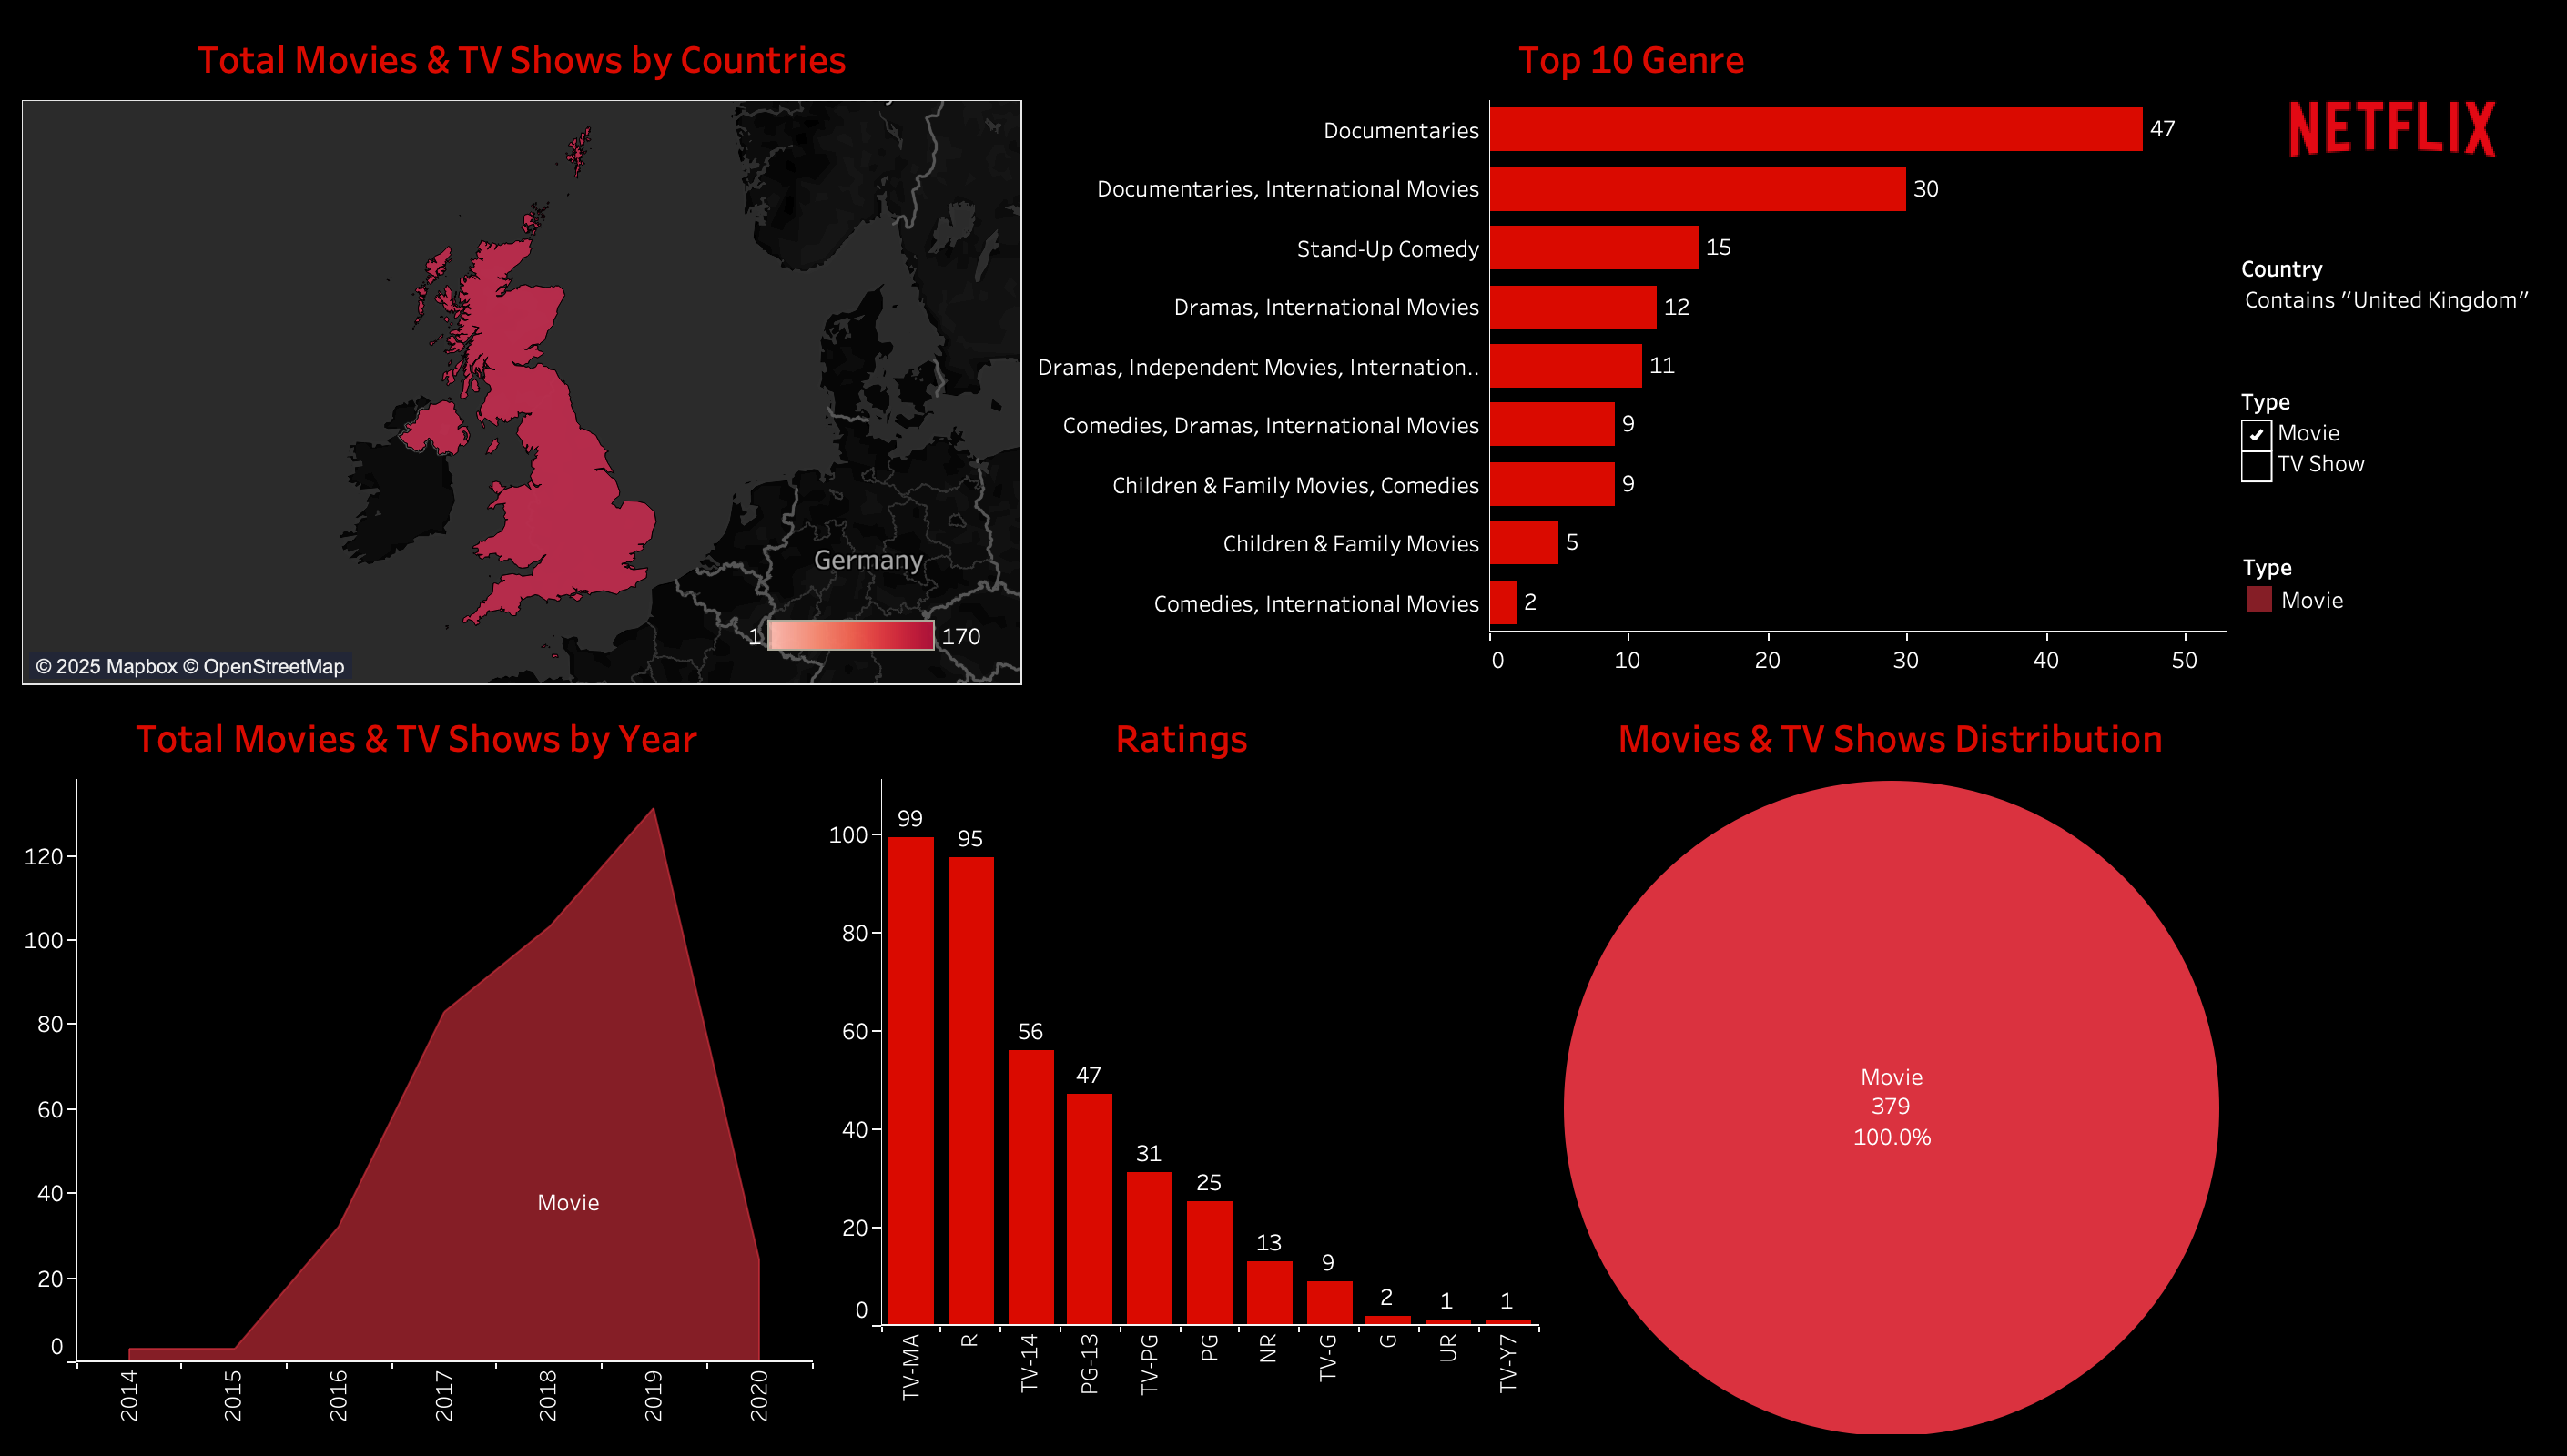

Layout of this report page (visuals, bound fields, positions):
{"tool":"tableau","page":{"name":"Netflix","canvas":[1410,800],"ordinal":0},"visuals":[{"type":"worksheet","title":"Total Movies & TV Shows by Countries","mark":"Multipolygon","box":[8,8,558.3,373]},{"type":"worksheet","title":"Top 10 Genre","mark":"Automatic","rows":["listed_in"],"cols":["show_id"],"box":[566.3,8,660.7,373]},{"type":"image","param":"/Users/siya/Downloads/Netflix Dashboard/Netflix logo.png","box":[1227,8,175,126]},{"type":"filter","title":"Total Movies & TV Shows by Year","param":"[federated.1kptx0v0jbjw831bnegm413axtkj].[none:country:nk]","box":[1227,134,175,73]},{"type":"filter","title":"Total Movies & TV Shows by Year","param":"[federated.1kptx0v0jbjw831bnegm413axtkj].[none:type:nk]","box":[1227,207,175,90]},{"type":"legend","title":"Total Movies & TV Shows by Year","param":"[federated.1kptx0v0jbjw831bnegm413axtkj].[none:type:nk]","box":[1227,297,175,82]},{"type":"legend","title":"Total Movies & TV Shows by Countries","param":"[federated.1kptx0v0jbjw831bnegm413axtkj].[ctd:show_id:qk]","box":[407,337,137,34]},{"type":"worksheet","title":"Total Movies & TV Shows by Year","mark":"Area","rows":["show_id"],"cols":["date_added"],"box":[8,381,442.4,411]},{"type":"worksheet","title":"Ratings","mark":"Automatic","rows":["show_id"],"cols":["rating"],"box":[450.4,381,399.3,411]},{"type":"worksheet","title":"Movies & TV Shows Distribution","mark":"Circle","box":[849.7,381,377.3,411]}]}

Visuals, with their boxes in screenshot pixels (x1, y1, x2, y2), scaled from the page's 1410x800 canvas onto the 2567x1456 screenshot:
"Total Movies & TV Shows by Countries" worksheet (Multipolygon marks): region(15, 15, 1031, 693)
"Top 10 Genre" worksheet: region(1031, 15, 2234, 693)
image: region(2234, 15, 2552, 244)
"Total Movies & TV Shows by Year" filter: region(2234, 244, 2552, 377)
"Total Movies & TV Shows by Year" filter: region(2234, 377, 2552, 541)
"Total Movies & TV Shows by Year" legend: region(2234, 541, 2552, 690)
"Total Movies & TV Shows by Countries" legend: region(741, 613, 990, 675)
"Total Movies & TV Shows by Year" worksheet (Area marks): region(15, 693, 820, 1441)
"Ratings" worksheet: region(820, 693, 1547, 1441)
"Movies & TV Shows Distribution" worksheet (Circle marks): region(1547, 693, 2234, 1441)
